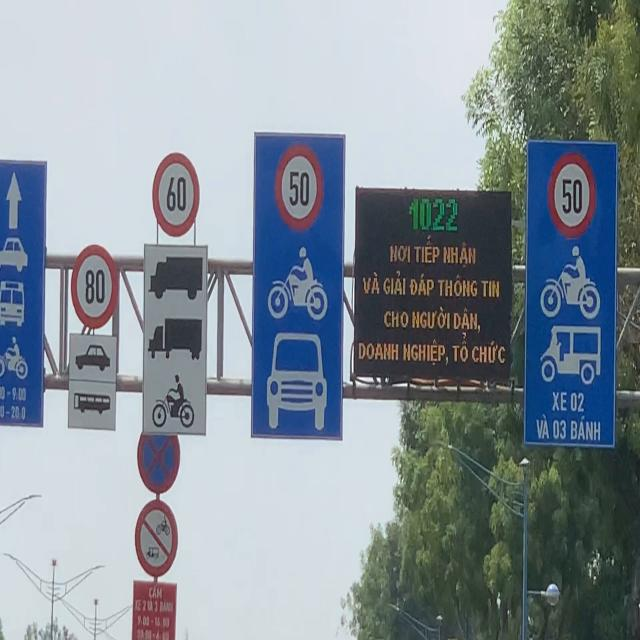Cam con lai: (134, 498, 179, 581)
Cam dung va do: (137, 416, 180, 494)
Toc do toi da: (548, 153, 596, 239), (275, 144, 323, 230), (152, 152, 200, 238), (71, 243, 118, 329)
